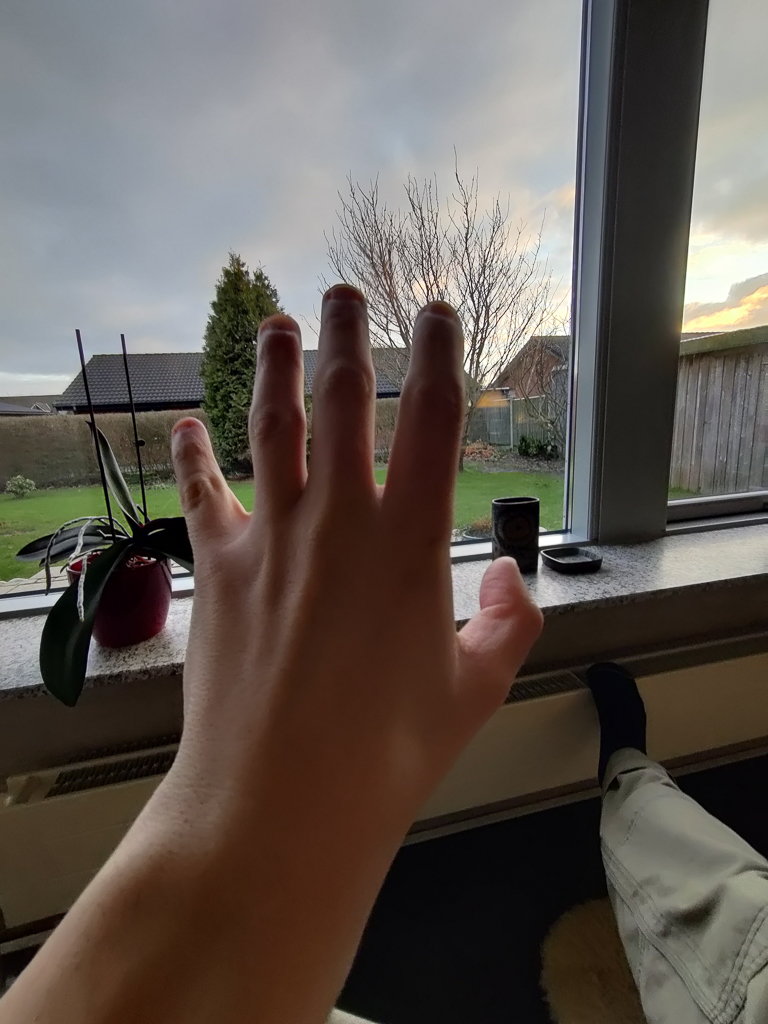Humanoid: (0, 263, 768, 1024)
